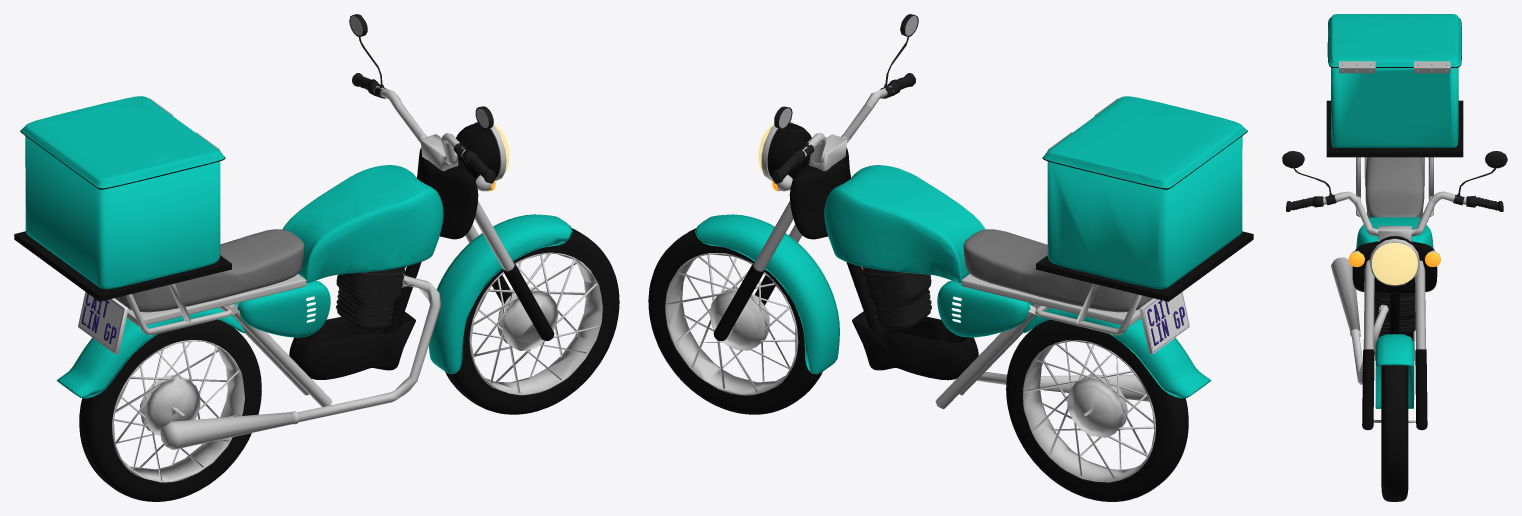
Rendered from bike.glb.
3 renders of one model, left to right at view 1: azimuth 30°, elevation 25°; view 2: azimuth 150°, elevation 25°; view 3: azimuth 270°, elevation 25°, orthographic. The views are drawn at different scales.
Parts seen in each view (by area): view 1: Fuel Tank_Shiny Blue_0, Blinker Holder_Metal_0, Front Tyre_Tyre_0, Controls_Black_0, Seat_Seat_0, Handle_Engine Block_0, Plate_License Plate_0; view 2: Fuel Tank_Shiny Blue_0, Blinker Holder_Metal_0, Front Tyre_Tyre_0, Controls_Black_0, Seat_Seat_0, Handle_Engine Block_0, Plate_License Plate_0, Plate_License Text_0; view 3: Fuel Tank_Shiny Blue_0, Blinker Holder_Metal_0, Controls_Black_0, Front Tyre_Tyre_0, Seat_Seat_0, Handle_Engine Block_0, Front Light_Front Light_0, Blinker Light_Orange Light_0.
Part boxes in pixels (x1,y1,x2,y2): Fuel Tank_Shiny Blue_0: [21, 96, 572, 398]; Blinker Holder_Metal_0: [112, 86, 602, 482]; Front Tyre_Tyre_0: [79, 228, 619, 501]; Controls_Black_0: [14, 123, 554, 379]; Seat_Seat_0: [115, 229, 304, 312]; Handle_Engine Block_0: [336, 14, 495, 329]; Plate_License Plate_0: [78, 292, 128, 353]; Fuel Tank_Shiny Blue_0: [695, 96, 1246, 398]; Blinker Holder_Metal_0: [665, 86, 1155, 482]; Front Tyre_Tyre_0: [648, 228, 1188, 501]; Controls_Black_0: [713, 123, 1253, 380]; Seat_Seat_0: [963, 229, 1152, 312]; Handle_Engine Block_0: [772, 14, 931, 329]; Plate_License Plate_0: [1139, 292, 1189, 353]; Plate_License Text_0: [1144, 293, 1188, 352]; Fuel Tank_Shiny Blue_0: [1328, 14, 1461, 408]; Blinker Holder_Metal_0: [1323, 61, 1466, 422]; Controls_Black_0: [1326, 19, 1463, 430]; Front Tyre_Tyre_0: [1381, 365, 1408, 501]; Seat_Seat_0: [1365, 157, 1424, 218]; Handle_Engine Block_0: [1282, 151, 1507, 333]; Front Light_Front Light_0: [1371, 243, 1417, 284]; Blinker Light_Orange Light_0: [1348, 252, 1440, 266].
Size of the model in its own units: 4.05 by 2.59 by 1.76.
